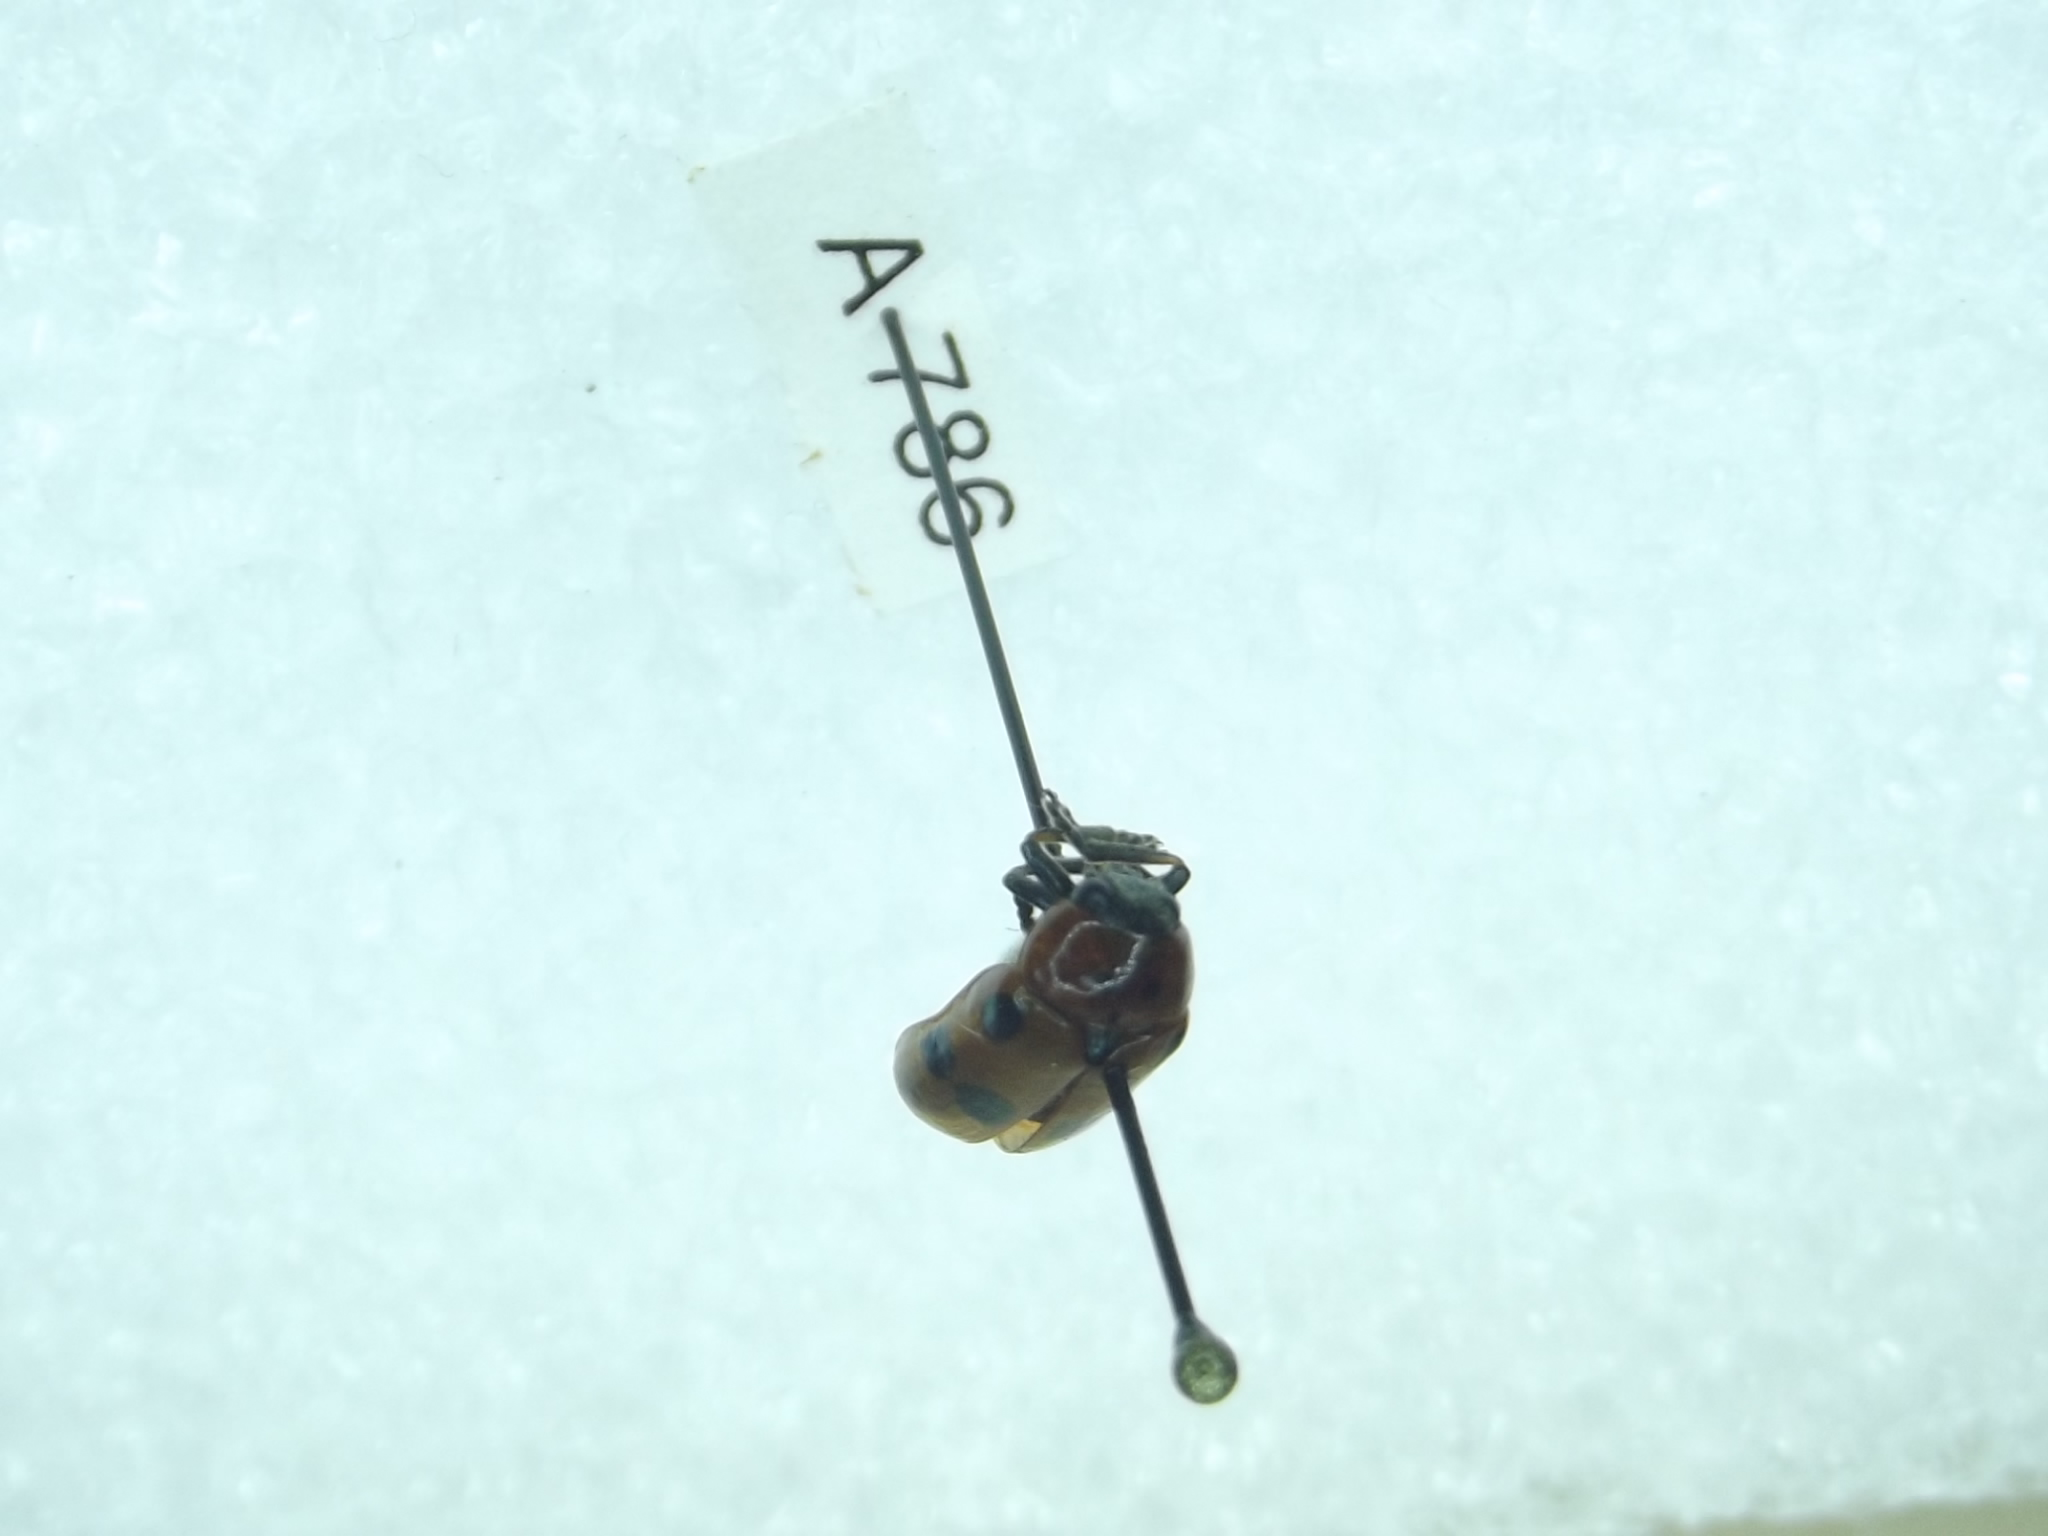Clytra_novempunctata: (882, 786, 1205, 1175)
